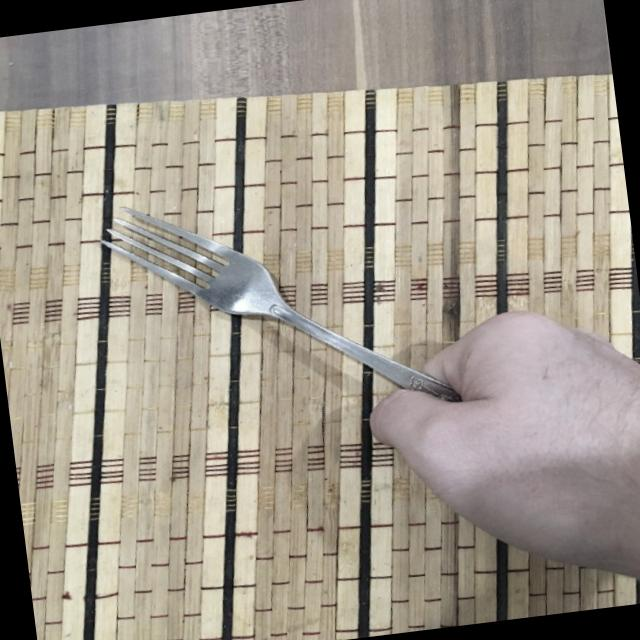fork: (89, 162, 508, 452)
